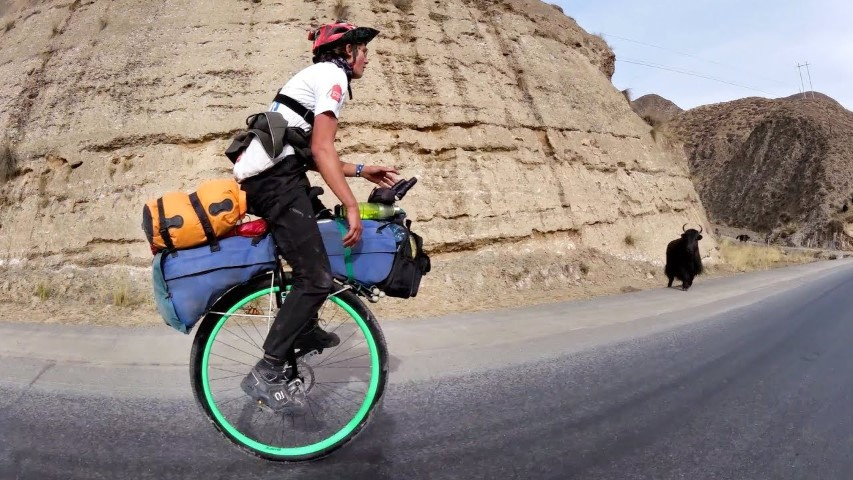wheel: (195, 253, 389, 465)
